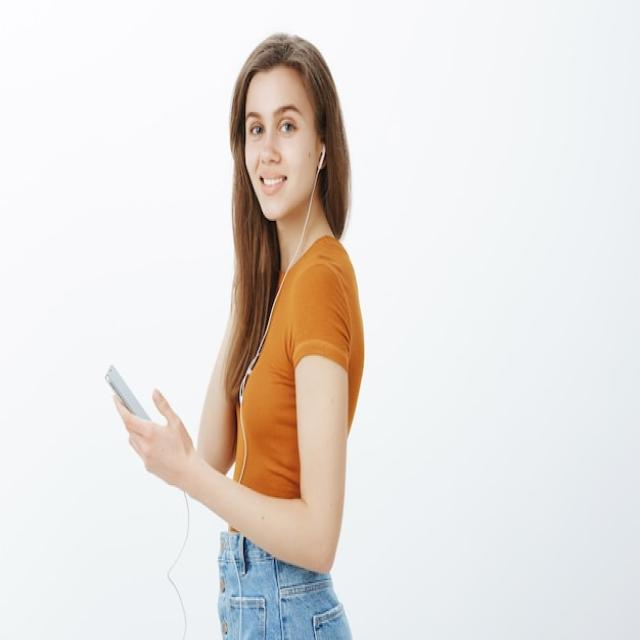Earphone: (237, 138, 329, 482)
